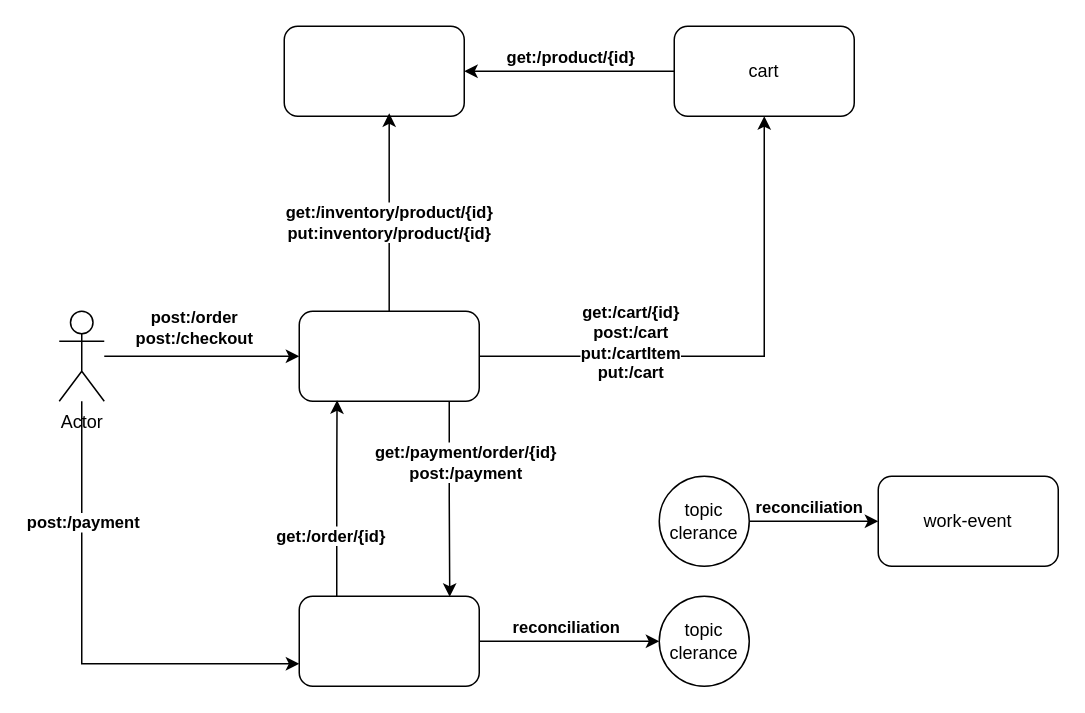
The diagram is 1085 pixels wide and 713 high, and some of its shapes have lost their labels. Each missing label, with the centre of its shape:
"clearance" belongs at point 388,640.
"inventory" belongs at point 373,70.
"order" belongs at point 388,355.
